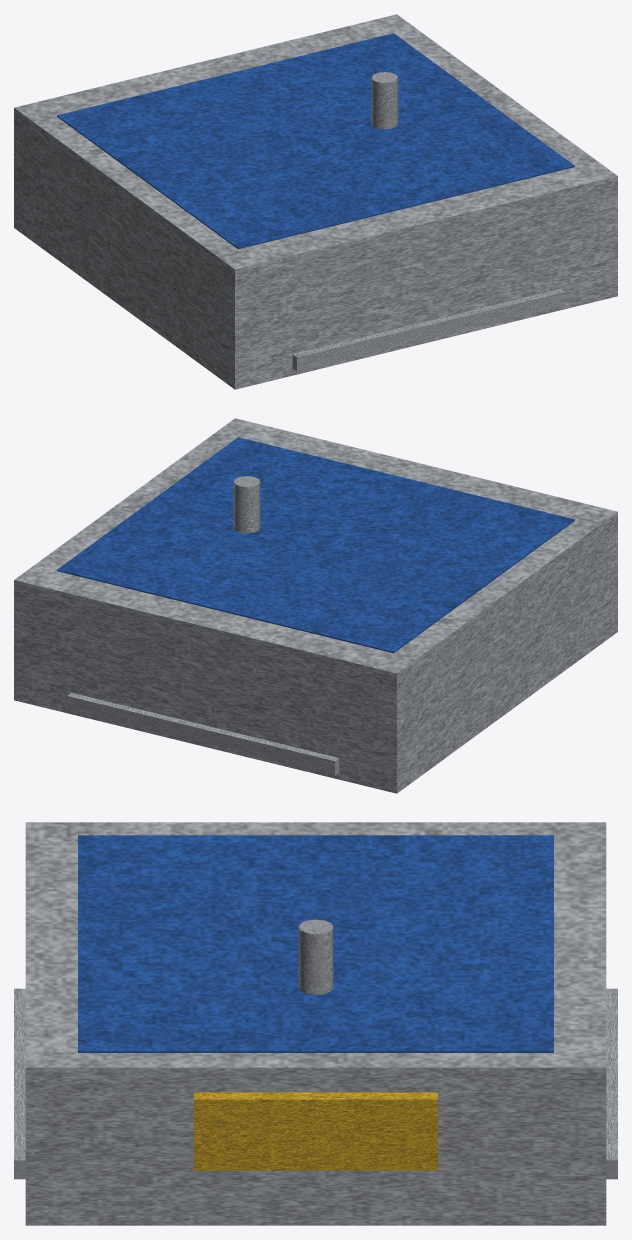
File: chassis_arm.obj
3 views of the same model, one above another, from view 1: azimuth 30°, elevation 25°; view 2: azimuth 150°, elevation 25°; view 3: azimuth 270°, elevation 25° (orthographic). The views are drawn at different scales.
Size of the model in its own units: 0.412 by 0.1674 by 0.416.
4 materials, 4 textured.
